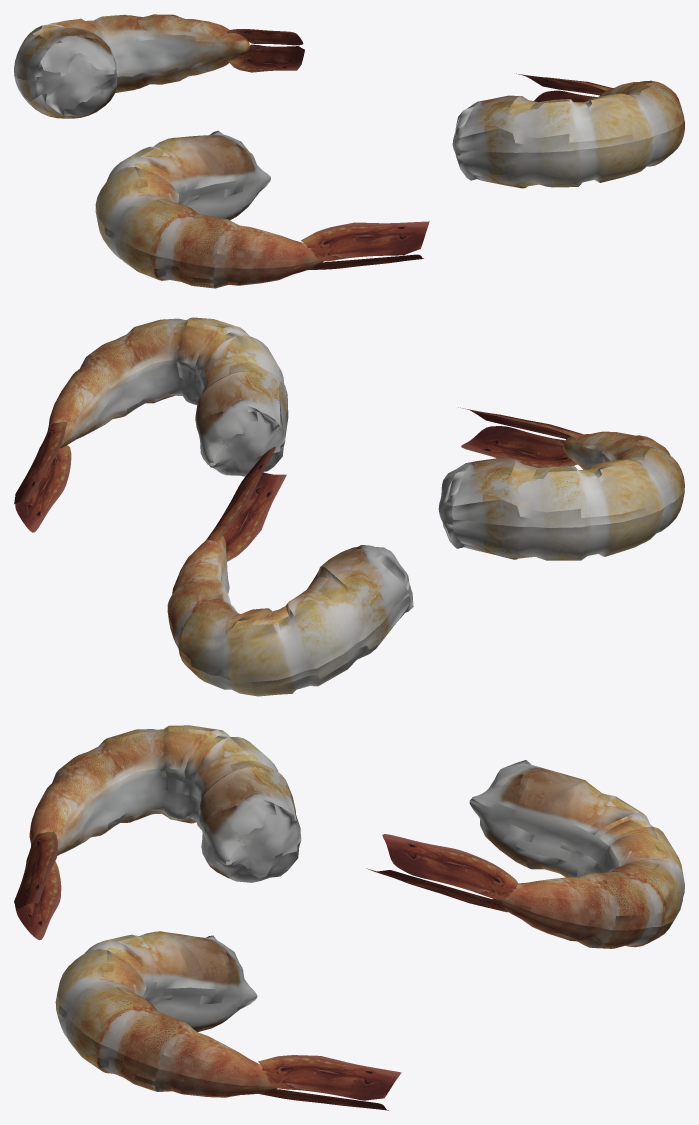
File: Shrimp.fbx
3 renders of one model, top to bottom at view 1: azimuth 30°, elevation 25°; view 2: azimuth 150°, elevation 25°; view 3: azimuth 270°, elevation 25°, orthographic. The views are drawn at different scales.
Visible parts, largest first — view 1: Shrimp1, Shrimp3, Shrimp2; view 2: Shrimp2, Shrimp1, Shrimp3; view 3: Shrimp2, Shrimp3, Shrimp1.
Boxes of the visible parts, box(x1,y1,x2,y2) form: Shrimp1: box(95, 130, 429, 288); Shrimp3: box(452, 73, 684, 188); Shrimp2: box(14, 14, 304, 118); Shrimp2: box(167, 447, 413, 696); Shrimp1: box(438, 407, 684, 560); Shrimp3: box(14, 317, 288, 532); Shrimp2: box(367, 760, 684, 948); Shrimp3: box(55, 931, 401, 1110); Shrimp1: box(14, 725, 301, 940).
Bounding box in the file's own units: 53.45 × 12.35 × 49.62.
Materials: 3 (3 with a texture image).
